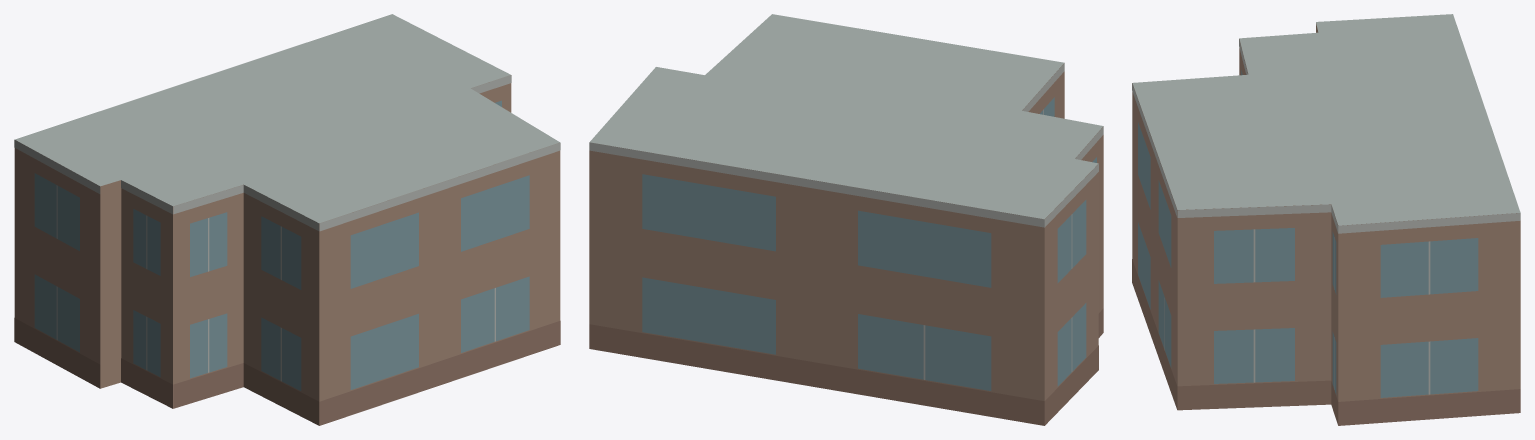
Rendered from survey-upis-32725709.glb.
3 views of the same model, side by side, from view 1: azimuth 30°, elevation 25°; view 2: azimuth 150°, elevation 25°; view 3: azimuth 270°, elevation 25° (orthographic). The views are drawn at different scales.
Parts seen in each view (by area): view 1: survey-upis-32725709.tmp; view 2: survey-upis-32725709.tmp; view 3: survey-upis-32725709.tmp.
Boxes of the visible parts, <box> form: survey-upis-32725709.tmp: <box>14,14,560,425</box>; survey-upis-32725709.tmp: <box>589,14,1103,425</box>; survey-upis-32725709.tmp: <box>1132,14,1520,425</box>.
Size of the model in its own units: 13.85 by 6.1 by 10.74.
